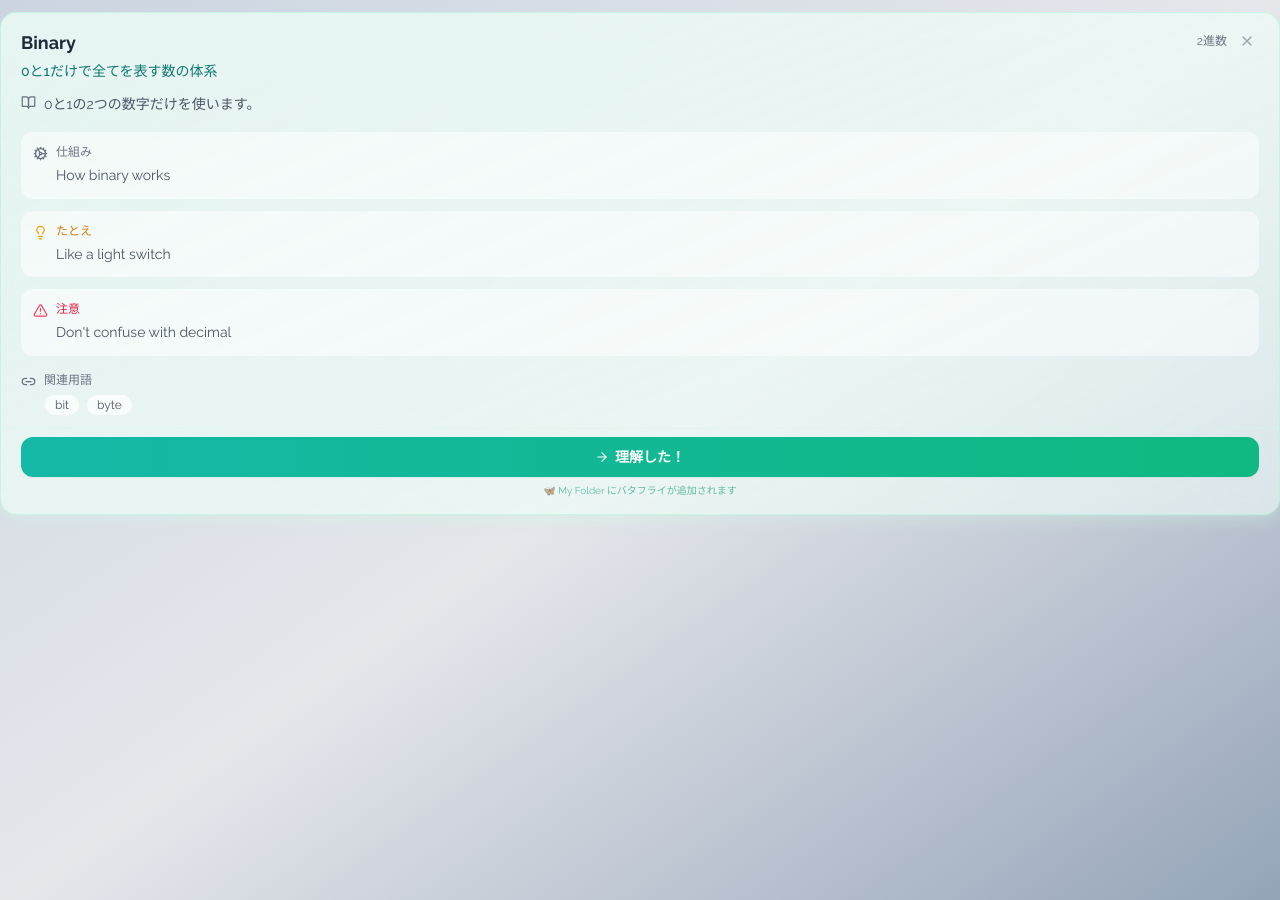
Test: InlineTermCard › cancel returns to initial state
The image size is (1280, 900).
Click the button "理解した！" at coordinates (640, 457), box [21, 437, 1259, 477]
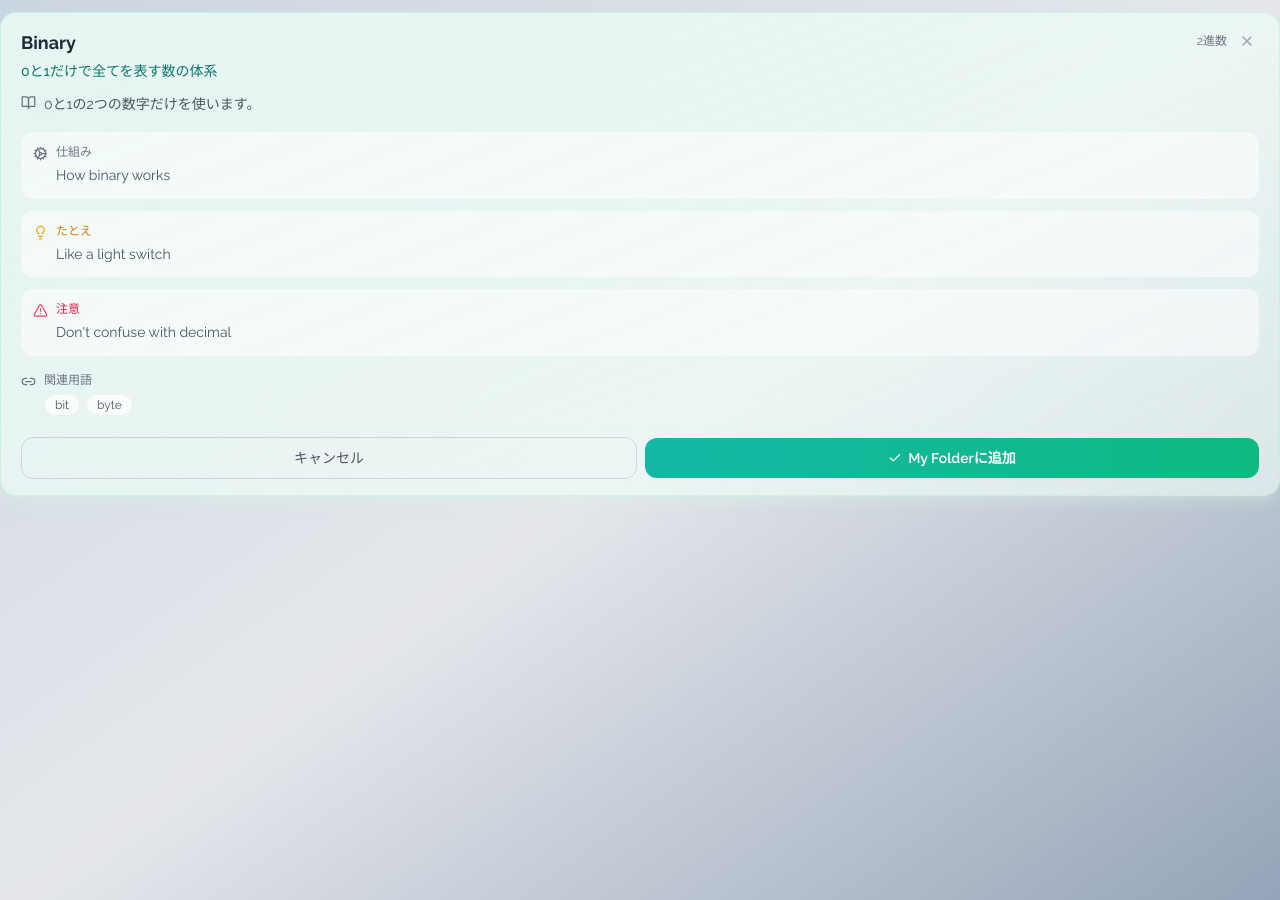
Click the button "キャンセル" at coordinates (329, 458), box [21, 437, 637, 479]
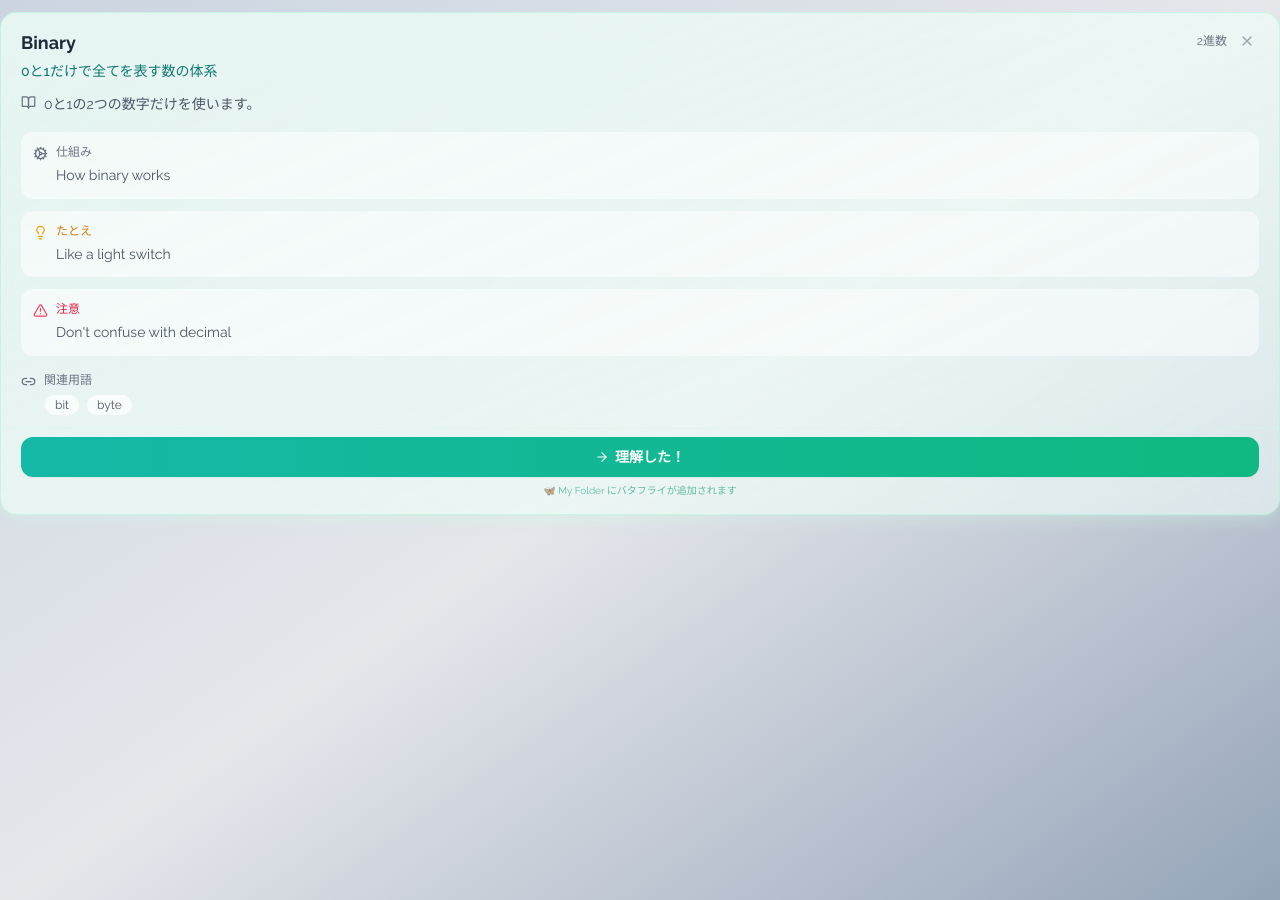
Expected: the button "理解した！" is shown, [21, 437, 1259, 477]
